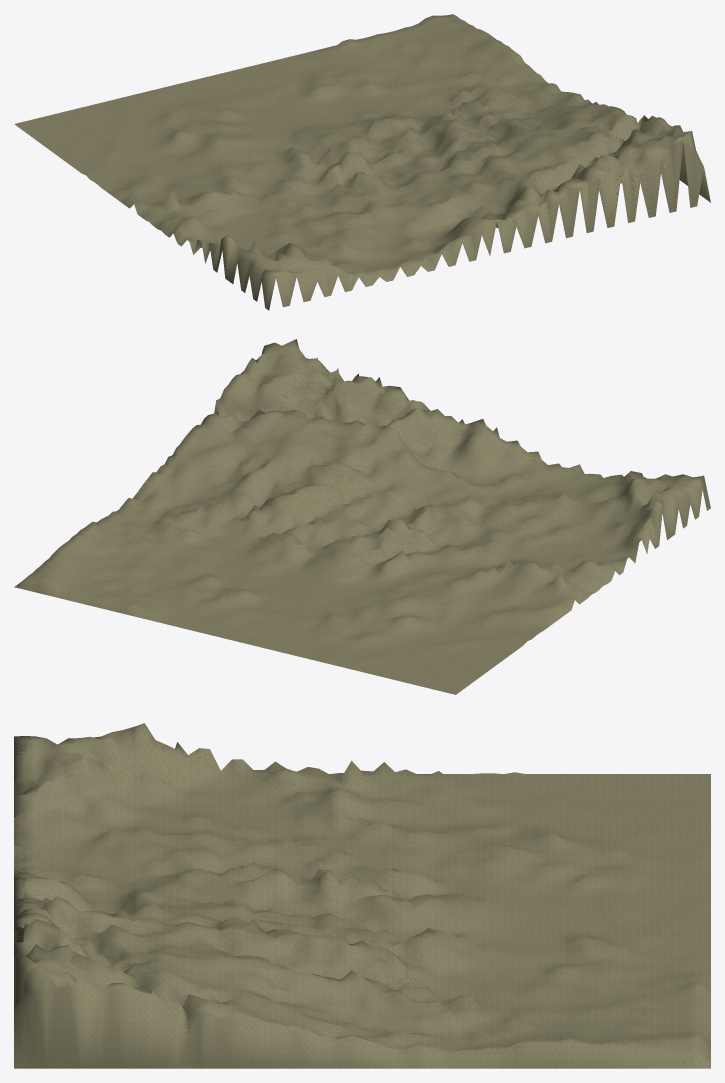
File: terrain.gltf.glb
3 renders of one model, top to bottom at view 1: azimuth 30°, elevation 25°; view 2: azimuth 150°, elevation 25°; view 3: azimuth 270°, elevation 25°, orthographic. The views are drawn at different scales.
Visible parts, largest first — view 1: Plane; view 2: Plane; view 3: Plane.
Part boxes in pixels (left/top/right/bottom): Plane: left=14, top=14, right=710, bottom=310; Plane: left=14, top=339, right=710, bottom=694; Plane: left=14, top=723, right=710, bottom=1068.
Size of the model in its own units: 20 by 3 by 20.
1 material, 1 textured.
